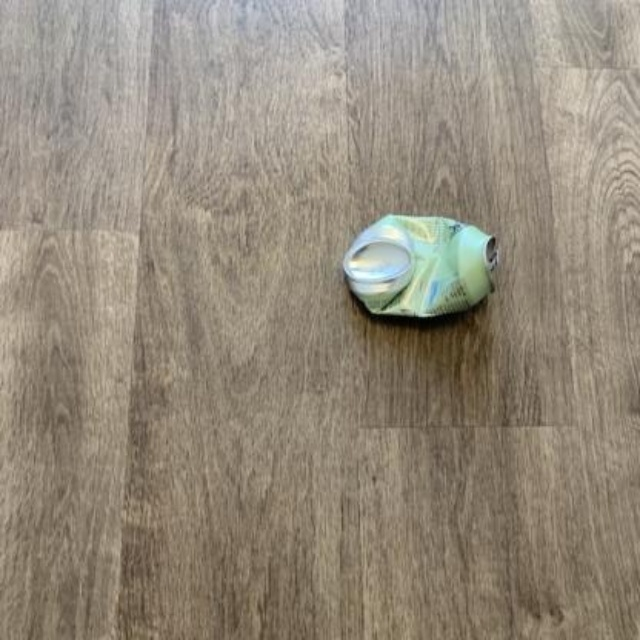trash: (343, 215, 495, 315)
